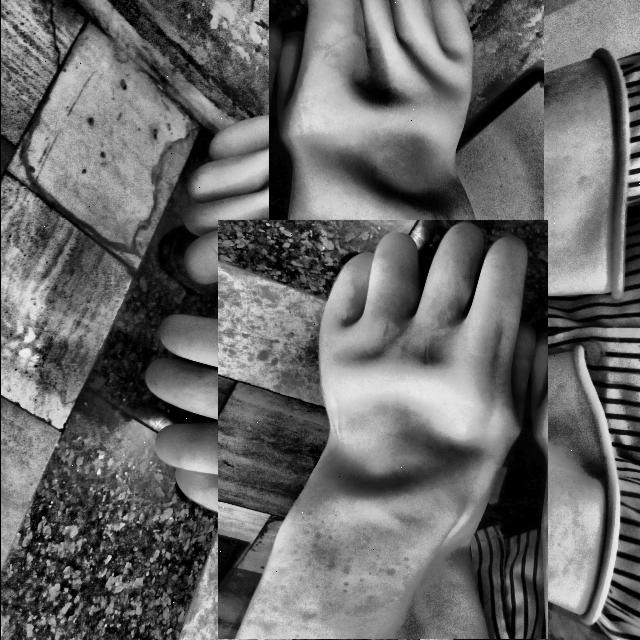gloved: (179, 257, 584, 640), (223, 0, 587, 363)
